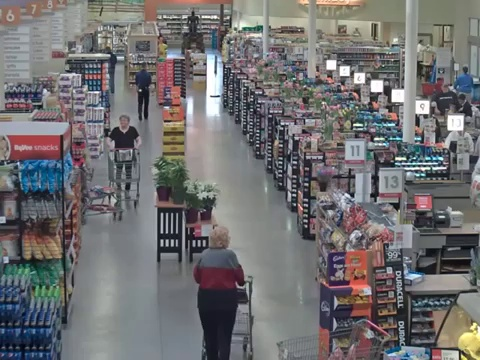face: (120, 118, 127, 127)
